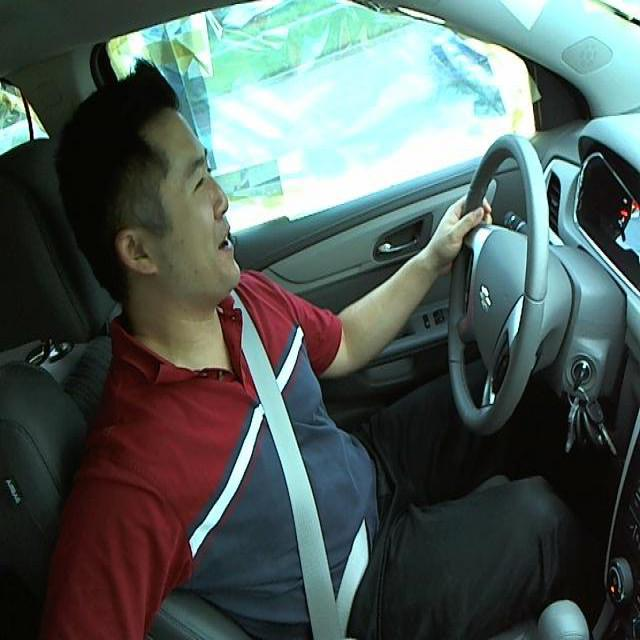seatbelt: (229, 314, 387, 614)
